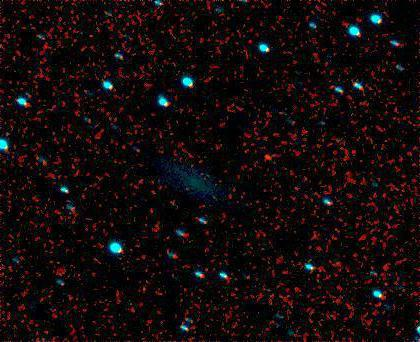star: (253, 142, 283, 172)
